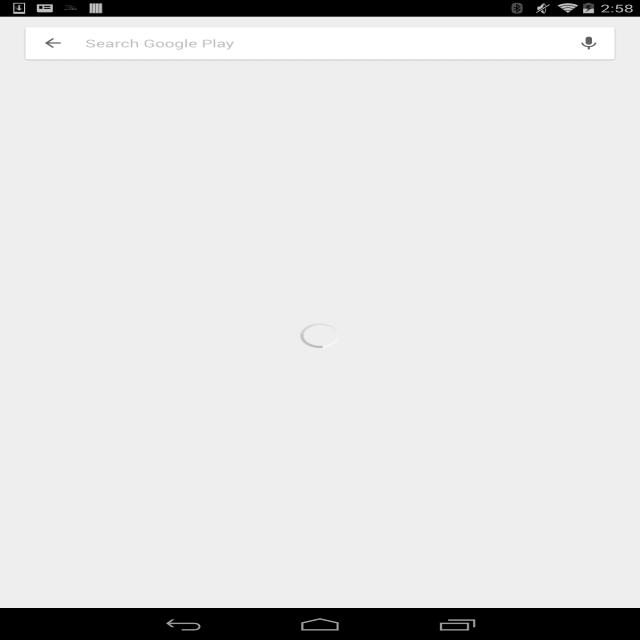Button: (170, 406, 264, 472), (273, 406, 367, 472), (376, 406, 470, 472), (478, 406, 572, 472), (454, 352, 614, 376)
ImageButton: (9, 17, 68, 59)
ImageView: (0, 59, 640, 254), (0, 589, 455, 640), (26, 270, 196, 377), (459, 589, 640, 640), (264, 121, 376, 192), (383, 406, 462, 455), (486, 406, 564, 455), (287, 414, 353, 455), (68, 30, 233, 46), (289, 406, 351, 444), (307, 536, 333, 552), (589, 270, 614, 286), (222, 312, 239, 323), (242, 464, 250, 469)
TextView: (0, 490, 640, 537), (0, 558, 640, 576), (222, 270, 589, 295), (580, 22, 632, 54), (68, 455, 162, 472), (273, 455, 367, 472), (376, 455, 470, 472), (478, 455, 572, 472), (245, 311, 349, 325), (498, 380, 614, 392), (184, 455, 238, 472), (199, 415, 236, 437), (222, 295, 279, 309), (100, 420, 130, 440), (90, 443, 140, 452)
